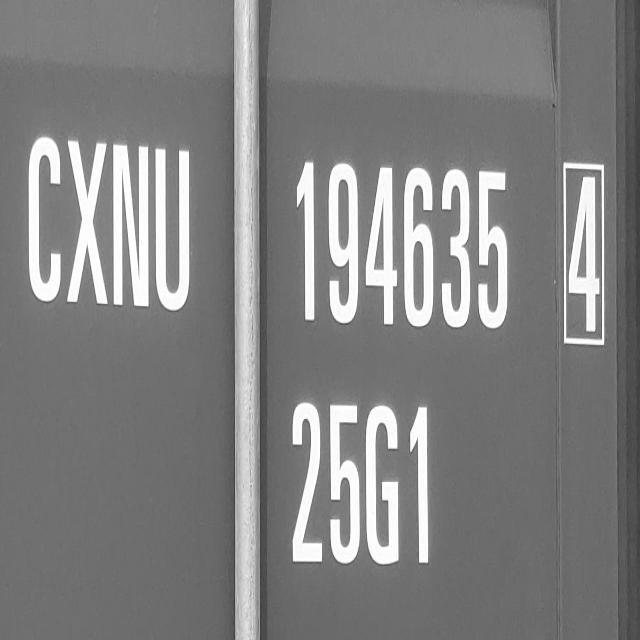dv: (554, 146, 619, 361)
owner: (20, 123, 202, 320)
serial: (285, 156, 525, 343)
size: (276, 390, 446, 579)
